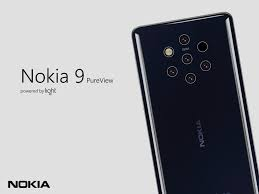nokia: (132, 9, 259, 194)
